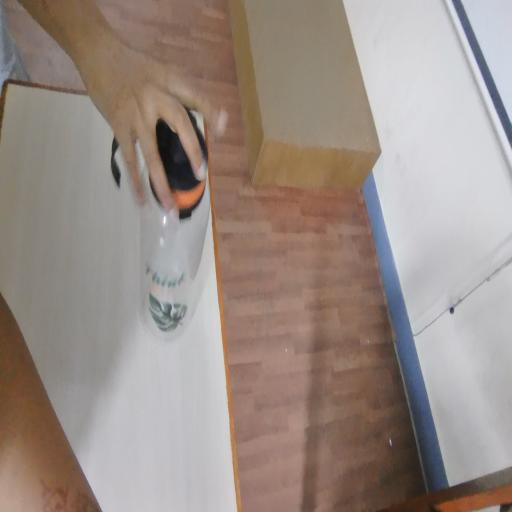Bottle: (144, 170, 245, 351)
